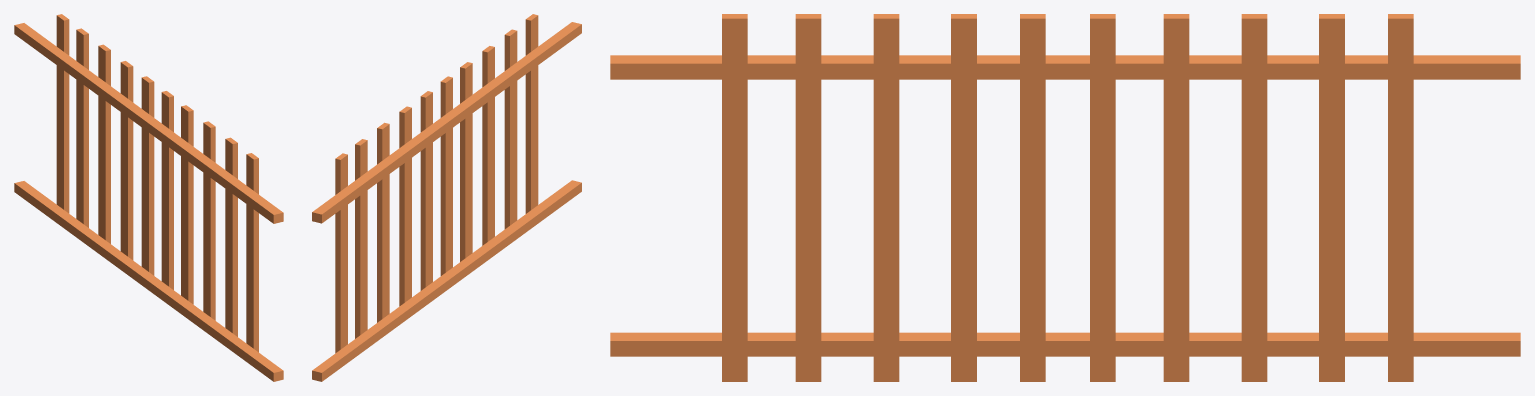
Rendered from bars1.fbx.
3 renders of one model, left to right at view 1: azimuth 30°, elevation 25°; view 2: azimuth 150°, elevation 25°; view 3: azimuth 270°, elevation 25°, orthographic. The views are drawn at different scales.
Visible parts, largest first — view 1: Cube.012; view 2: Cube.012; view 3: Cube.012.
Boxes of the visible parts, x1=… form: Cube.012: x1=14, y1=14, x2=283, y2=381; Cube.012: x1=312, y1=14, x2=581, y2=381; Cube.012: x1=610, y1=14, x2=1520, y2=381.
Bounding box in the file's own units: 11.19 × 130 × 296.
